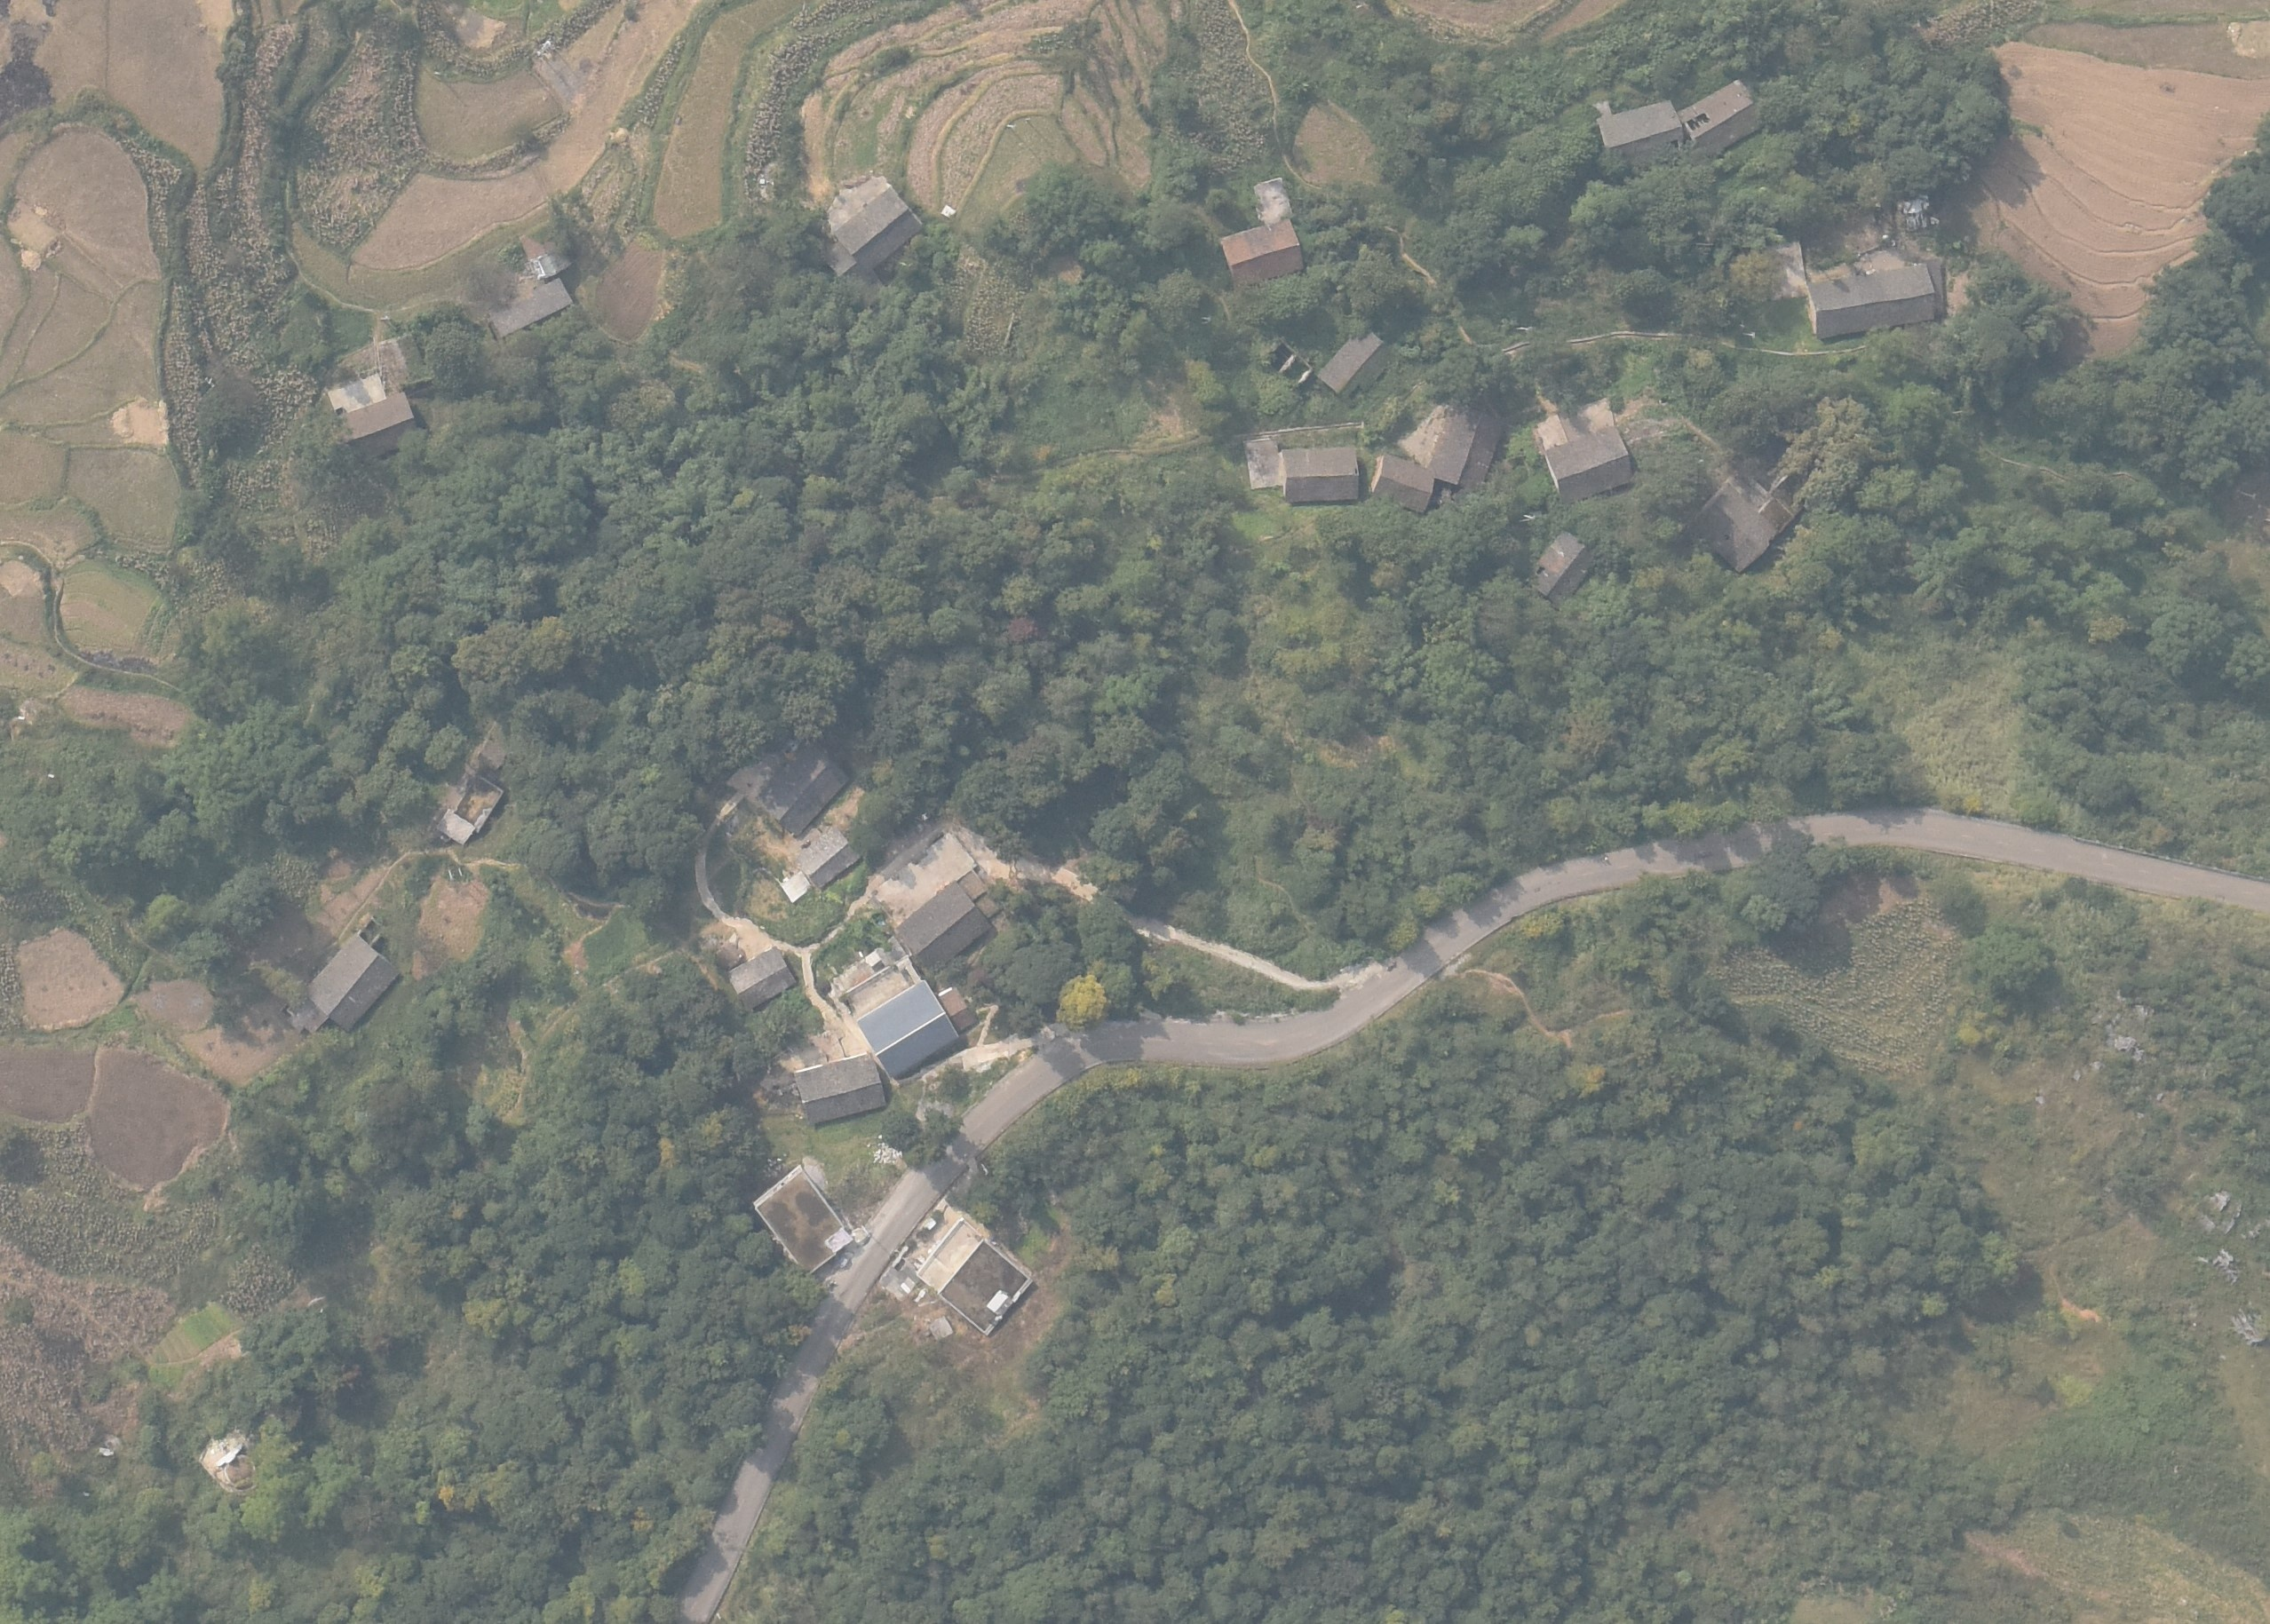building: (755, 1166, 852, 1275), (824, 178, 922, 283), (856, 980, 959, 1078), (1687, 474, 1794, 567), (1806, 265, 1938, 339), (896, 882, 992, 978), (754, 743, 849, 836), (941, 1239, 1033, 1335), (308, 936, 395, 1029), (1677, 78, 1761, 156), (1427, 401, 1498, 490), (1546, 429, 1634, 500), (793, 1053, 886, 1120), (1315, 329, 1391, 400), (1221, 221, 1302, 284), (1528, 530, 1593, 604), (1597, 100, 1683, 155), (435, 773, 502, 844), (345, 396, 417, 461), (488, 278, 572, 334), (1279, 445, 1358, 502), (726, 947, 798, 1009), (795, 827, 861, 890), (1371, 455, 1435, 512), (377, 334, 426, 389), (1254, 176, 1291, 225)
